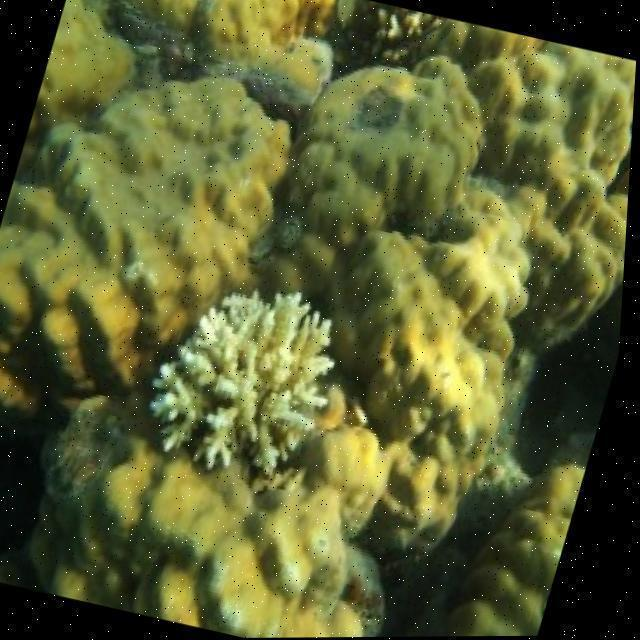Bleached Coral: (127, 249, 369, 528)
